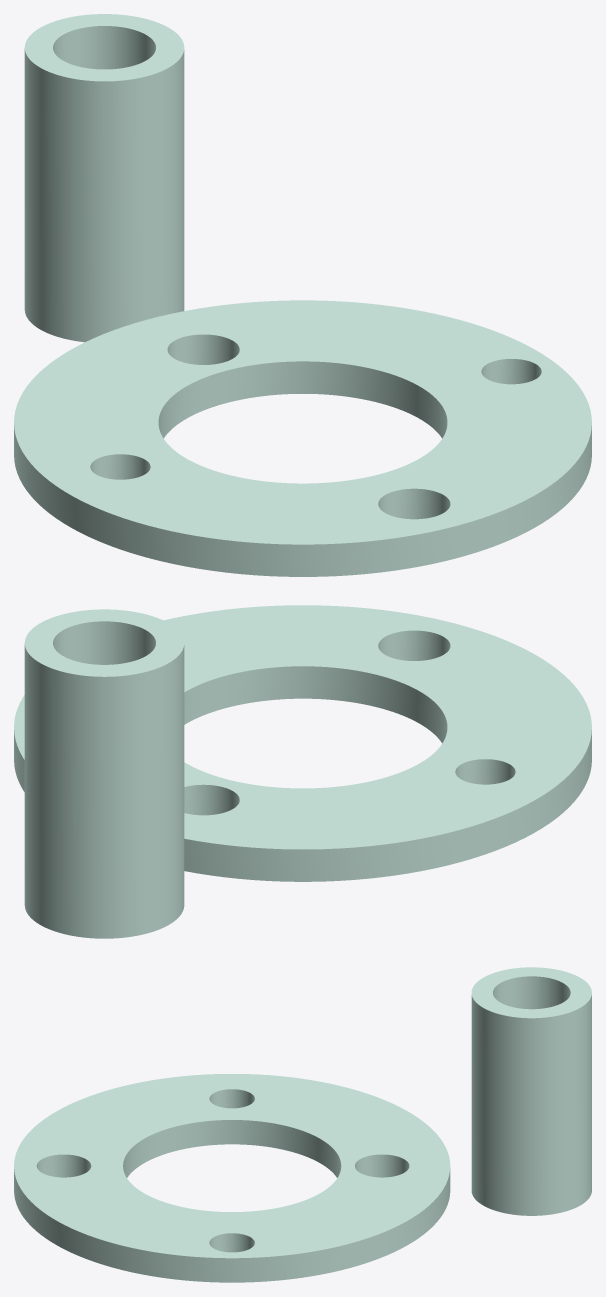
The picture shows the model from 3 angles, top to bottom: view 1: azimuth 30°, elevation 25°; view 2: azimuth 150°, elevation 25°; view 3: azimuth 270°, elevation 25°; orthographic projection. The views are drawn at different scales.
Parts seen in each view (by area): view 1: Renderer Node; view 2: Renderer Node; view 3: Renderer Node.
Part boxes in pixels (box(x1,y1,x2,y2)): Renderer Node: box(14, 14, 591, 576); Renderer Node: box(14, 605, 591, 938); Renderer Node: box(14, 967, 591, 1282).
Size of the model in its own units: 1.52 by 0.7578 by 2.01.
